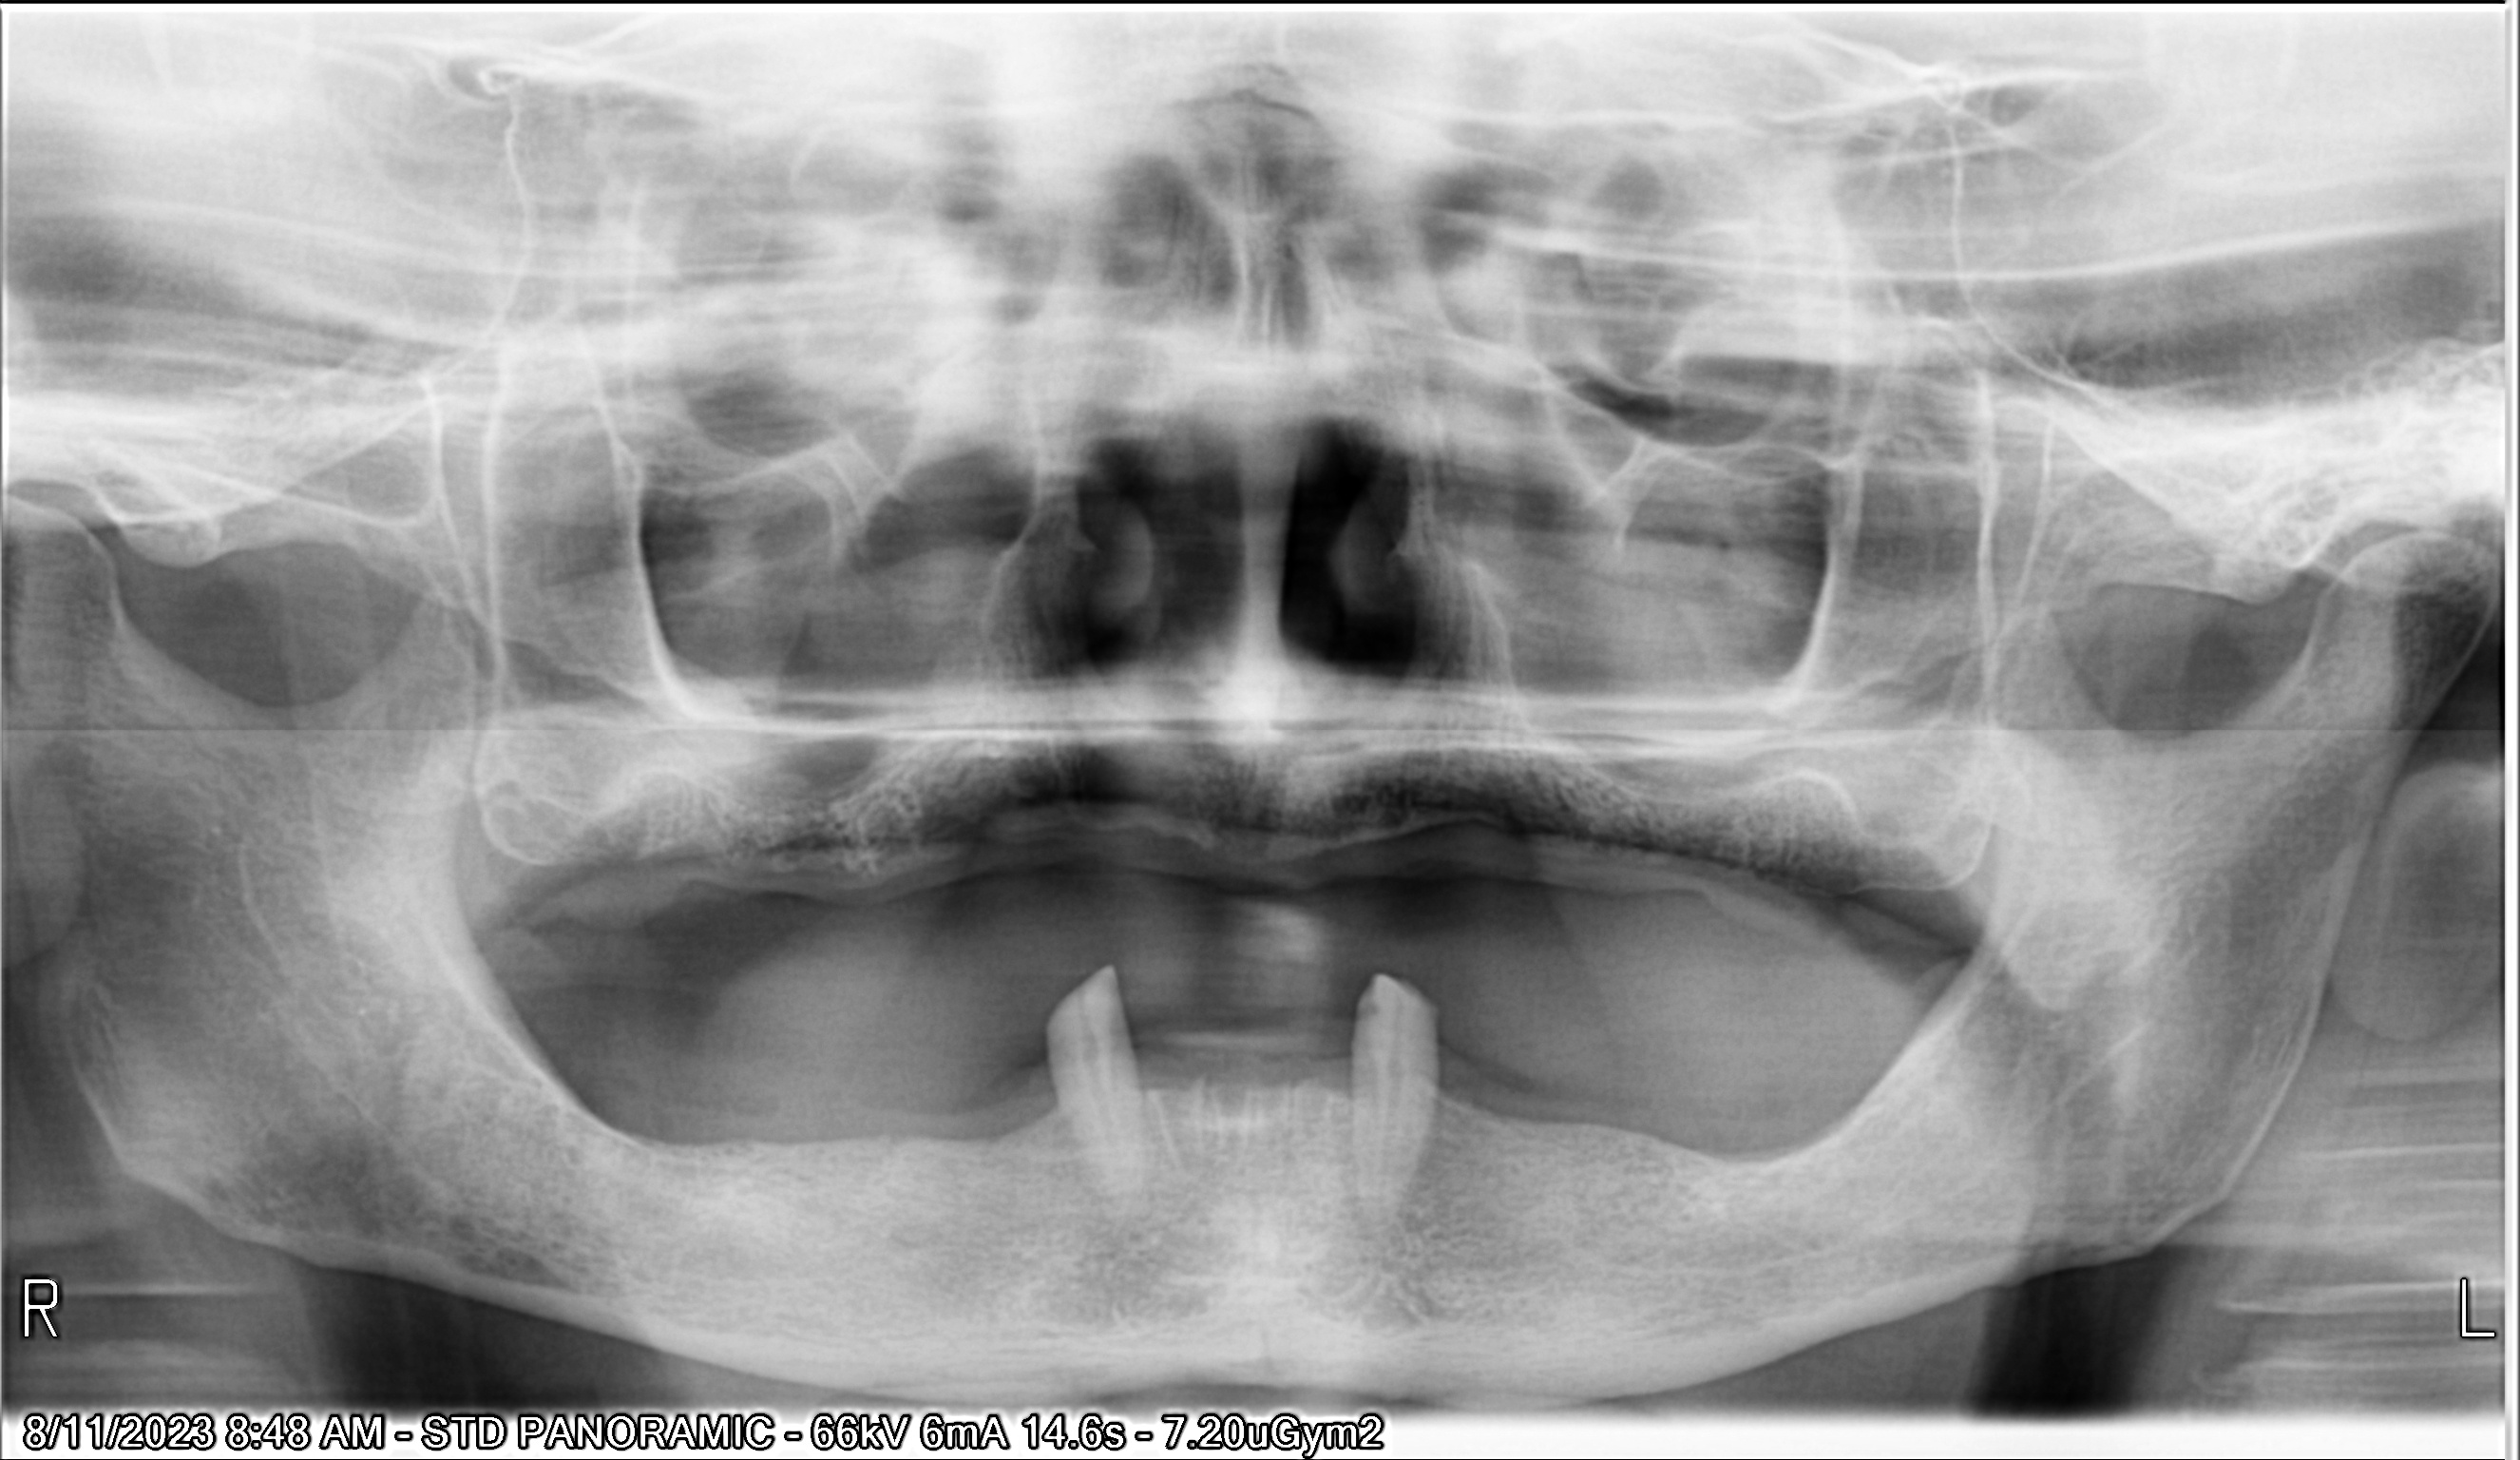BON: (417, 706, 1964, 918), (1428, 972, 2088, 1220), (458, 973, 1070, 1227)
